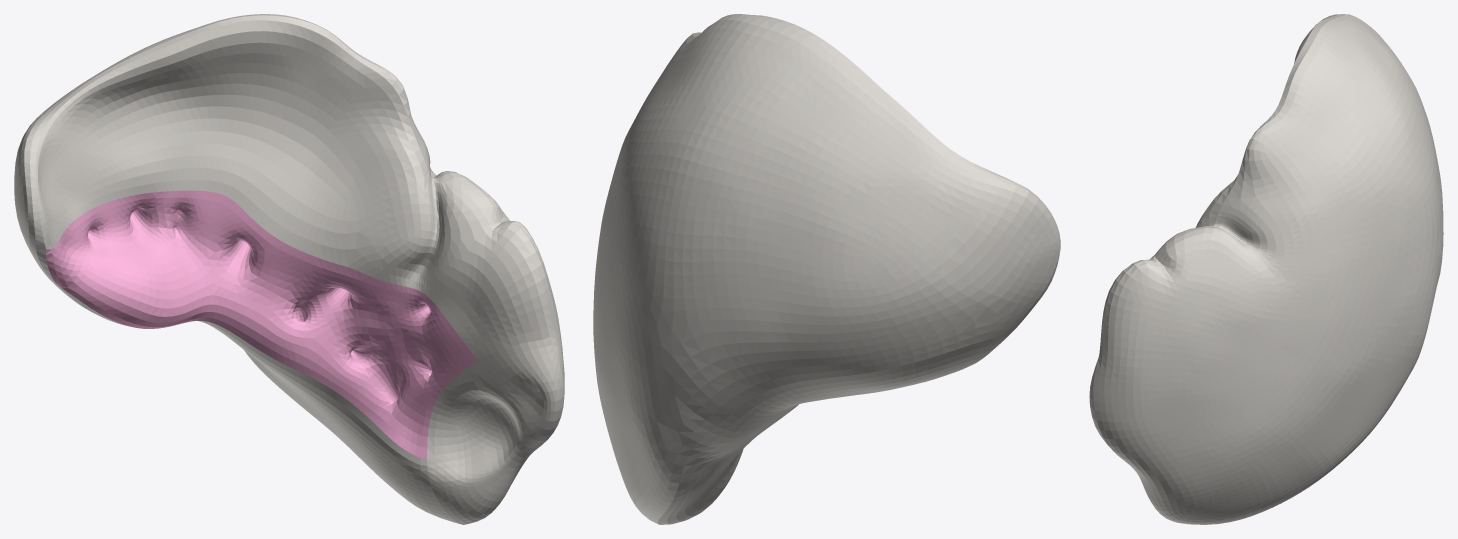
Rendered from organ-spleen.glb.
3 views of the same model, side by side, from view 1: azimuth 30°, elevation 25°; view 2: azimuth 150°, elevation 25°; view 3: azimuth 270°, elevation 25° (orthographic). The views are drawn at different scales.
Parts seen in each view (by area): view 1: gastric-surface-of-spleen, hilum-of-spleen, colic-surface-of-spleen, diaphragmatic-surface-of-spleen, renal-surface-of-spleen; view 2: diaphragmatic-surface-of-spleen, renal-surface-of-spleen; view 3: diaphragmatic-surface-of-spleen, gastric-surface-of-spleen.
Part boxes in pixels (bbox=[...]): gastric-surface-of-spleen: bbox=[35, 20, 549, 359]; hilum-of-spleen: bbox=[45, 190, 477, 458]; colic-surface-of-spleen: bbox=[427, 337, 564, 524]; diaphragmatic-surface-of-spleen: bbox=[14, 14, 564, 504]; renal-surface-of-spleen: bbox=[51, 281, 459, 523]; diaphragmatic-surface-of-spleen: bbox=[593, 14, 1060, 523]; renal-surface-of-spleen: bbox=[657, 337, 1006, 524]; diaphragmatic-surface-of-spleen: bbox=[1093, 14, 1443, 524]; gastric-surface-of-spleen: bbox=[1149, 27, 1314, 259].
Bounding box in the file's own units: 0.1104 × 0.1186 × 0.0886.
